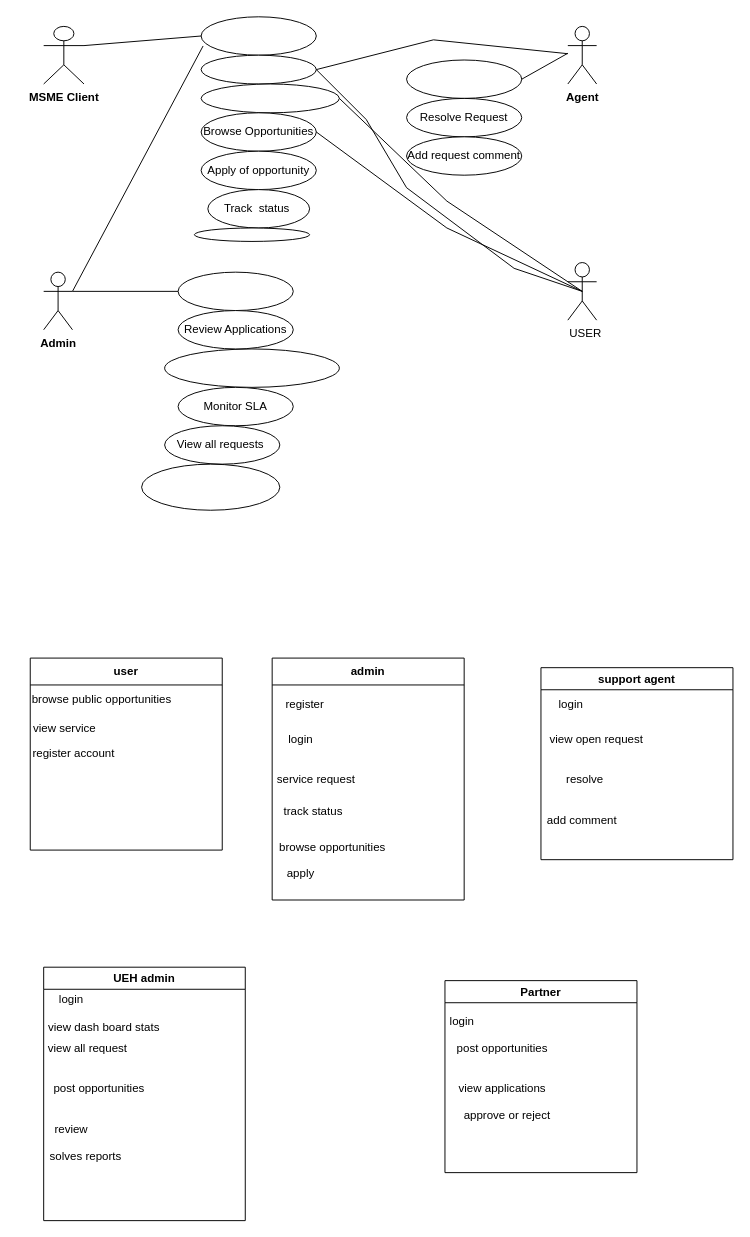
Image size: 750x1237. Some labels were removed from this diagram. Here are the shapes that lost their labels. From the top down, the centre of each, then its label:
the point at 258,35: UC1 Register
the point at 258,69: UC2 Login
the point at 464,78: View open Requsets
the point at 269,98: log Service Request
the point at 251,234: file reports
the point at 235,291: post new resgistrations
the point at 251,367: Assign Request to agent server
the point at 210,486: View dashboard states
